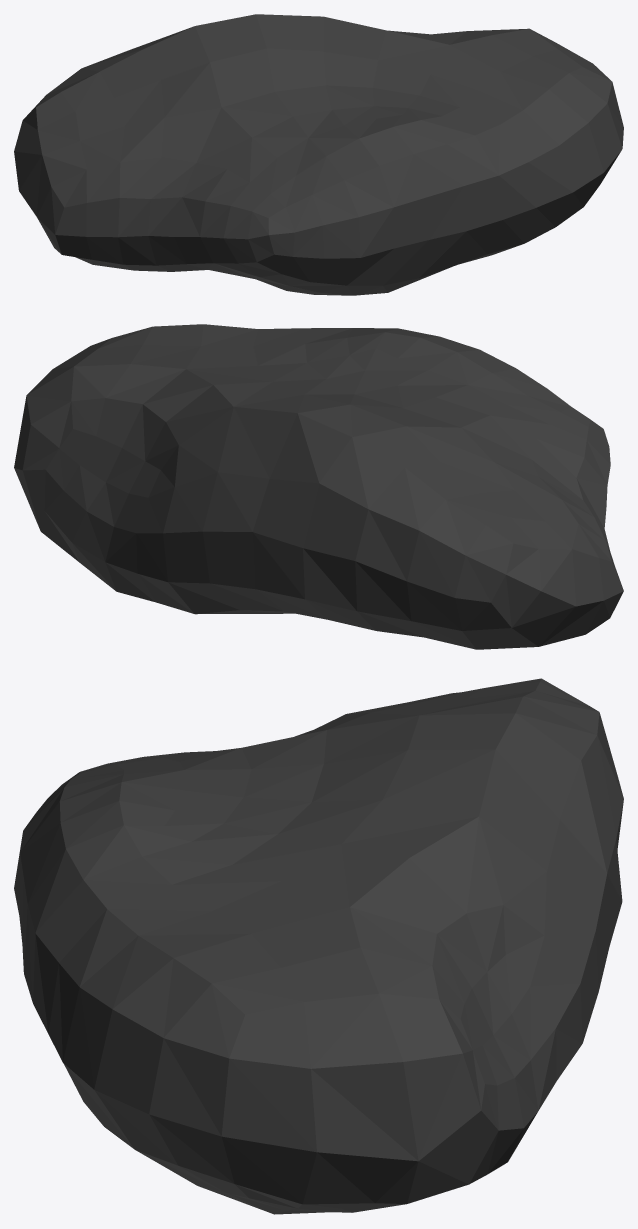
File: LFL_radius1.glb
3 renders of one model, top to bottom at view 1: azimuth 30°, elevation 25°; view 2: azimuth 150°, elevation 25°; view 3: azimuth 270°, elevation 25°, orthographic. The views are drawn at different scales.
Visible parts, largest first — view 1: LFL_radius1; view 2: LFL_radius1; view 3: LFL_radius1.
Boxes of the visible parts, x1,y1,x2,y2 form: LFL_radius1: (14, 14, 623, 295); LFL_radius1: (14, 324, 623, 649); LFL_radius1: (14, 678, 623, 1214).
Size of the model in its own units: 14.29 by 5.59 by 9.21.
Materials: 1 (1 with a texture image).
